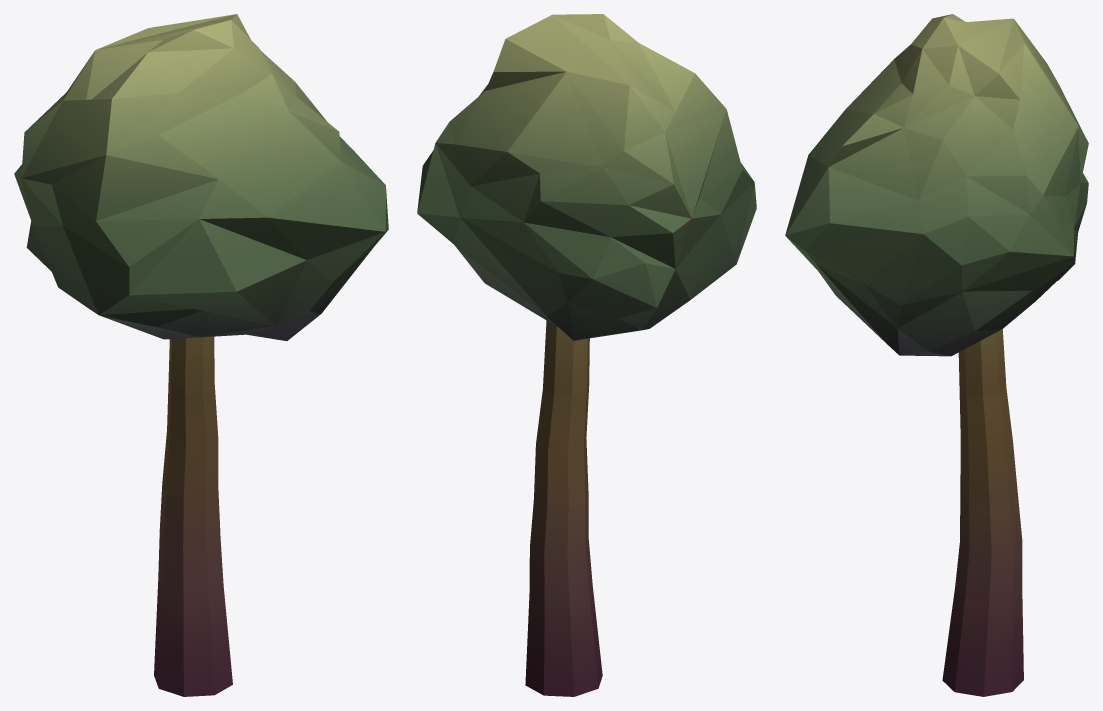
Rendered from Tree_01.fbx.
3 views of the same model, side by side, from view 1: azimuth 30°, elevation 25°; view 2: azimuth 150°, elevation 25°; view 3: azimuth 270°, elevation 25° (orthographic). The views are drawn at different scales.
Visible parts, largest first — view 1: treetrunk3; view 2: treetrunk3; view 3: treetrunk3.
Boxes of the visible parts, left/top/right/bottom form: treetrunk3: left=14, top=14, right=388, bottom=696; treetrunk3: left=417, top=14, right=756, bottom=696; treetrunk3: left=785, top=14, right=1088, bottom=696.
Size of the model in its own units: 291 by 654 by 276.
